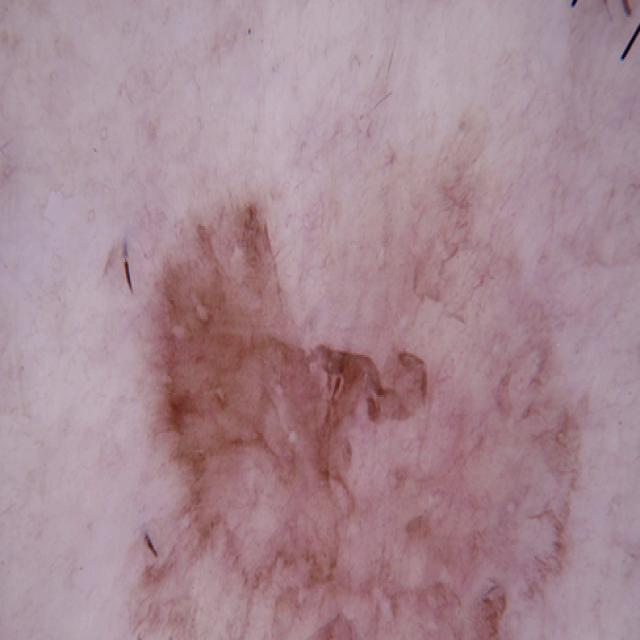Keratosis: (101, 121, 622, 640)
